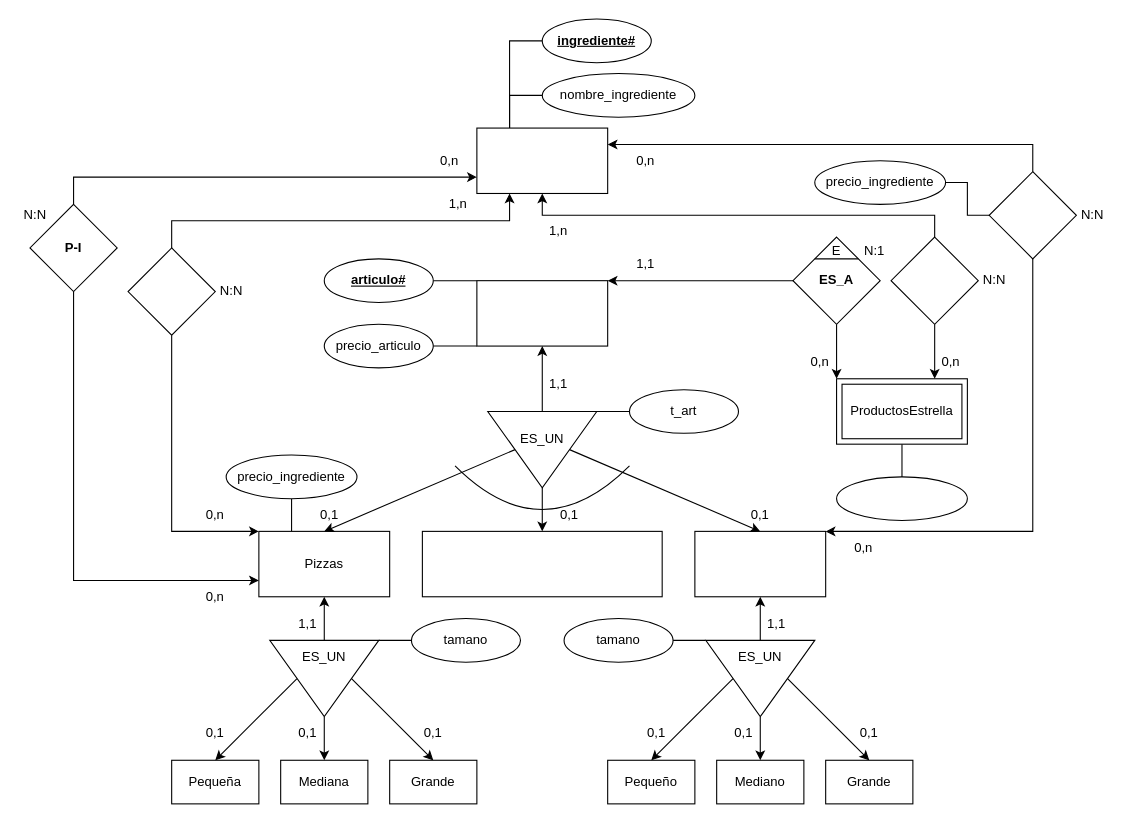
Image size: 1127x823. Some labels were removed from this diagram. Each missing label, with the centre of its shape:
"Artículos" belongs at (x=542, y=313).
"B-I" belongs at (x=1032, y=215).
"Bocadillos" belongs at (x=760, y=563).
"Complementario" belongs at (x=541, y=563).
"ES_I" belongs at (x=934, y=280).
"I-P" belongs at (x=171, y=291).
"Ingredientes" belongs at (x=542, y=160).
"nombre_comercial" belongs at (x=901, y=498).
